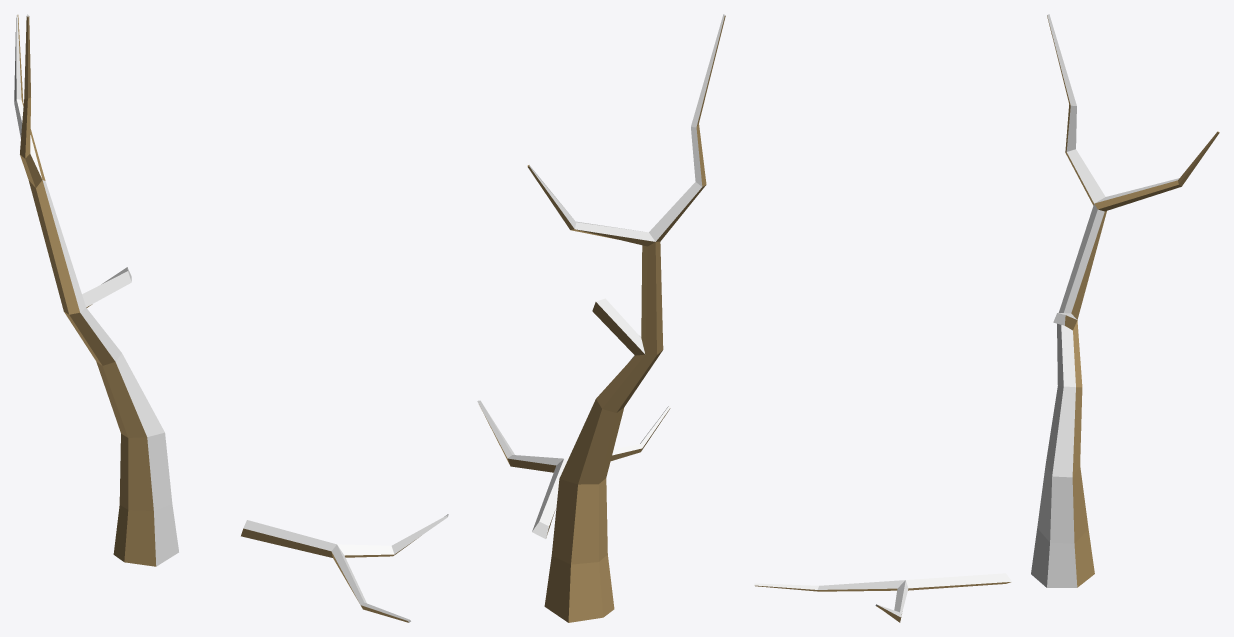
File: Oak_Tree_NoLeaves_crk_m_Snow_01.fbx
3 renders of one model, left to right at view 1: azimuth 30°, elevation 25°; view 2: azimuth 150°, elevation 25°; view 3: azimuth 270°, elevation 25°, orthographic. The views are drawn at different scales.
Parts seen in each view (by area): view 1: Oak_Tree_NoLeaves_crk_m_Snow_01; view 2: Oak_Tree_NoLeaves_crk_m_Snow_01; view 3: Oak_Tree_NoLeaves_crk_m_Snow_01.
Boxes of the visible parts, x1,y1,x2,y2 form: Oak_Tree_NoLeaves_crk_m_Snow_01: [14, 14, 448, 622]; Oak_Tree_NoLeaves_crk_m_Snow_01: [477, 14, 725, 622]; Oak_Tree_NoLeaves_crk_m_Snow_01: [754, 14, 1219, 622].
Bounding box in the file's own units: 400 × 673 × 558.
